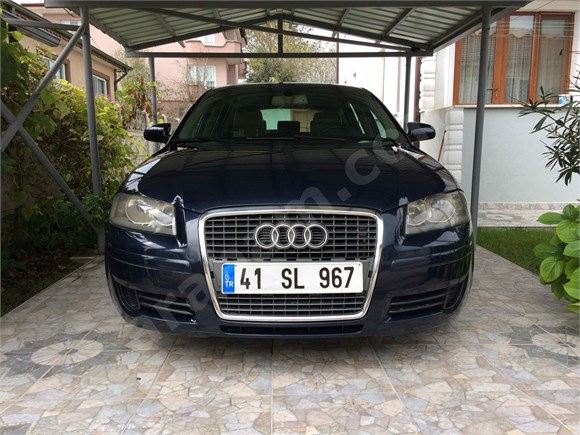audi: (246, 219, 339, 254)
